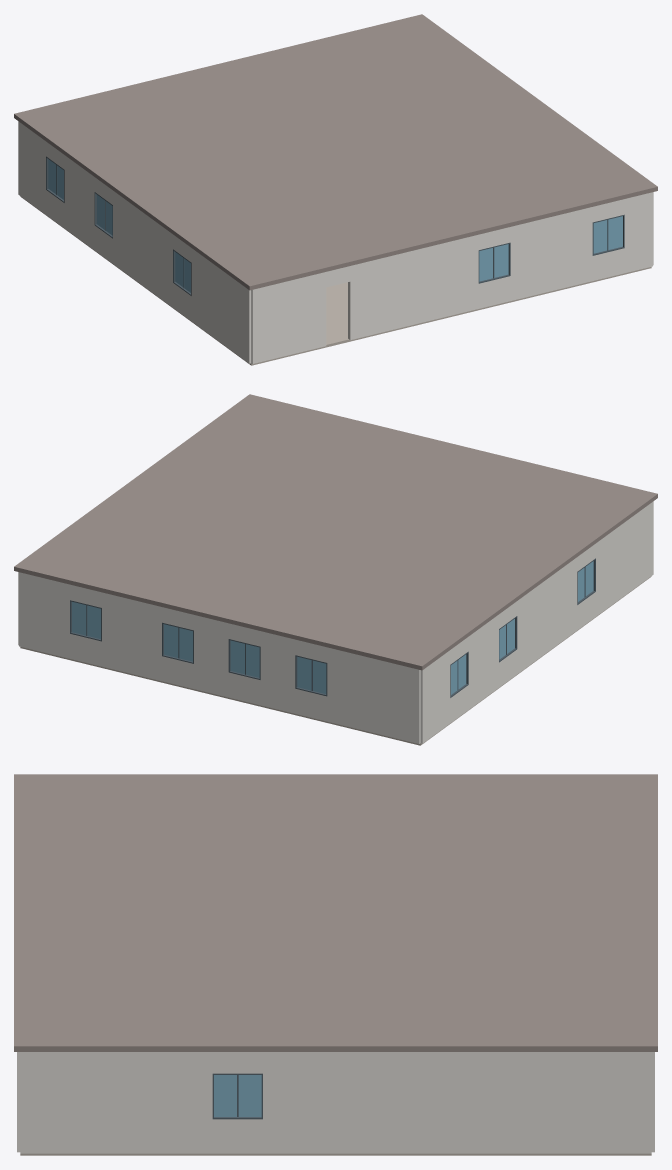
File: new-home-a8cde99d98.glb
3 views of the same model, one above another, from view 1: azimuth 30°, elevation 25°; view 2: azimuth 150°, elevation 25°; view 3: azimuth 270°, elevation 25° (orthographic). The views are drawn at different scales.
Parts seen in each view (by area): view 1: roof_0, wall_0_18, wall_0_19, wall_0_17, wall_0_24, wall_0_23, floor_slab_0, wall_0_22, wall_0_20, wall_0_21, window_0_9_pane, window_0_7_pane (+4 smaller); view 2: roof_0, wall_0_0, wall_0_23, wall_0_3, wall_0_24, wall_0_4, wall_0_1, wall_0_2, wall_0_22, wall_0_21, floor_slab_0, window_0_4_pane (+11 smaller); view 3: roof_0, wall_0_36, wall_0_37, window_0_8_pane, floor_slab_0, wall_0_68, wall_0_67.
Part boxes in pixels (left/top/right/bottom): roof_0: left=14, top=14, right=657, bottom=290; wall_0_18: left=348, top=234, right=478, bottom=339; wall_0_19: left=510, top=207, right=592, bottom=300; wall_0_17: left=251, top=272, right=326, bottom=363; wall_0_24: left=191, top=248, right=251, bottom=363; wall_0_23: left=113, top=191, right=172, bottom=307; floor_slab_0: left=20, top=196, right=651, bottom=365; wall_0_22: left=64, top=155, right=94, bottom=249; wall_0_20: left=624, top=192, right=652, bottom=272; wall_0_21: left=18, top=121, right=45, bottom=214; window_0_9_pane: left=593, top=216, right=622, bottom=253; window_0_7_pane: left=479, top=244, right=508, bottom=281; roof_0: left=14, top=394, right=657, bottom=670; wall_0_0: left=327, top=647, right=420, bottom=743; wall_0_23: left=517, top=557, right=577, bottom=673; wall_0_3: left=102, top=592, right=161, bottom=681; wall_0_24: left=596, top=501, right=653, bottom=616; wall_0_4: left=19, top=572, right=69, bottom=658; wall_0_1: left=260, top=631, right=295, bottom=713; wall_0_2: left=194, top=615, right=228, bottom=697; wall_0_22: left=468, top=614, right=498, bottom=709; wall_0_21: left=420, top=650, right=450, bottom=743; floor_slab_0: left=20, top=576, right=651, bottom=745; window_0_4_pane: left=72, top=602, right=100, bottom=639; roof_0: left=14, top=774, right=657, bottom=1051; wall_0_36: left=263, top=1052, right=651, bottom=1153; wall_0_37: left=20, top=1052, right=212, bottom=1153; window_0_8_pane: left=214, top=1075, right=261, bottom=1116; floor_slab_0: left=20, top=1153, right=651, bottom=1155; wall_0_68: left=212, top=1119, right=262, bottom=1153; wall_0_67: left=212, top=1052, right=262, bottom=1073.
Size of the model in its own units: 51 by 9.8 by 51.
